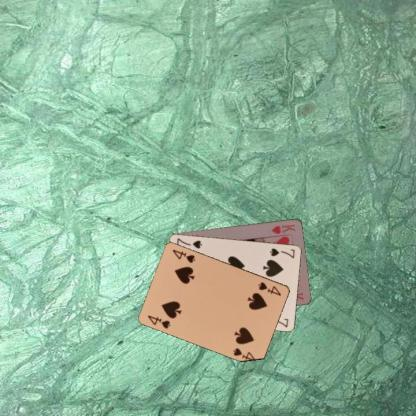4s: (145, 312, 172, 330), (256, 279, 282, 297)
7s: (268, 245, 297, 260)
Kh: (270, 221, 297, 235)
